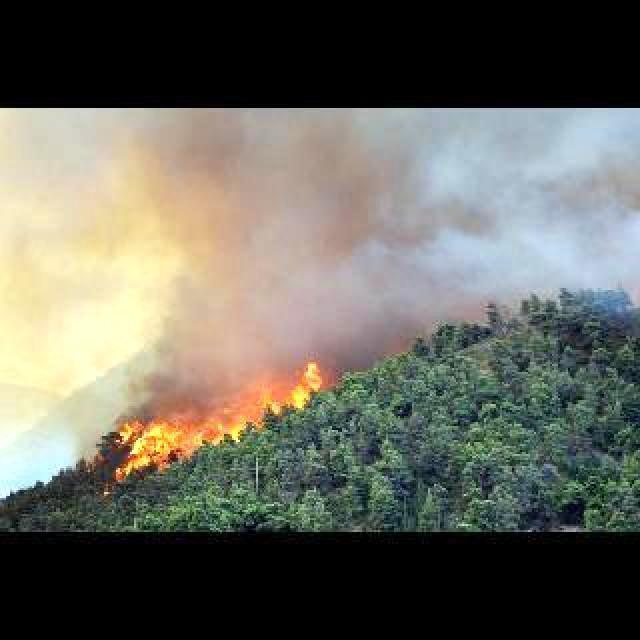Fire: (115, 396, 265, 479), (274, 344, 340, 414)
Smoke: (19, 107, 640, 375)
